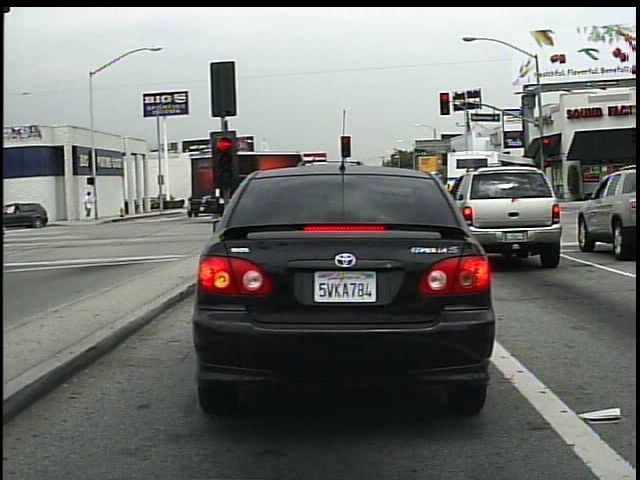person: (82, 188, 95, 221)
